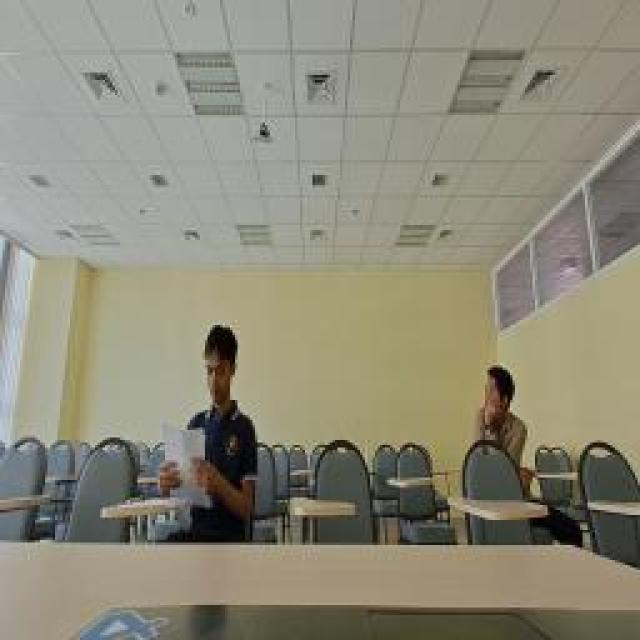study: (157, 322, 255, 542), (470, 362, 532, 500)
